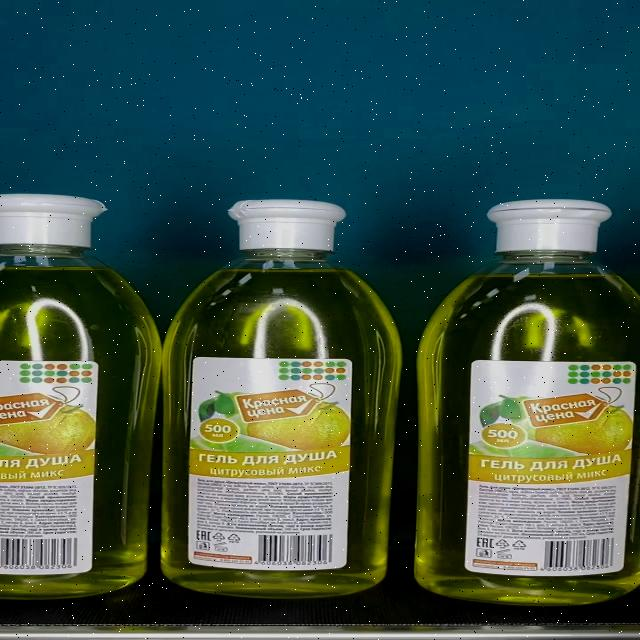Bottle: (161, 200, 400, 598), (415, 199, 640, 605)
Cap: (486, 200, 612, 252), (227, 200, 346, 250)
